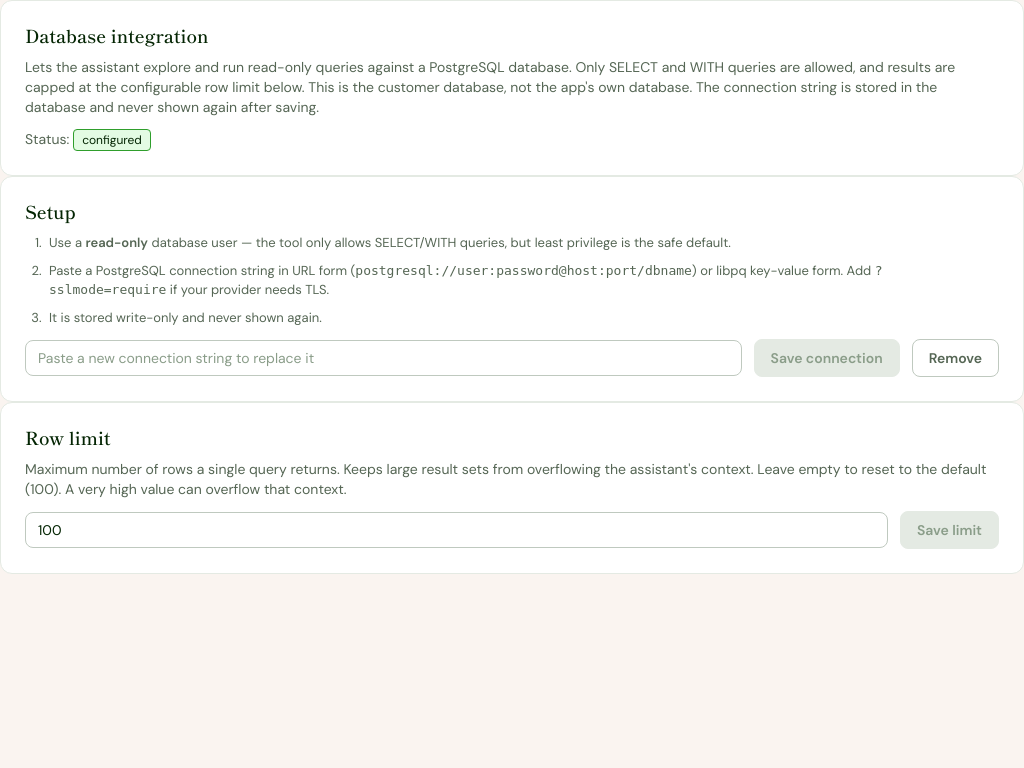
Scenario: AdminDatabase › surfaces a row-limit error from the server
This screenshot has width=1024, height=768.
Expected: the text "configured" is shown, [73,129,151,151]
Type "500" into the number field at (456, 530), box [25,512,888,548]
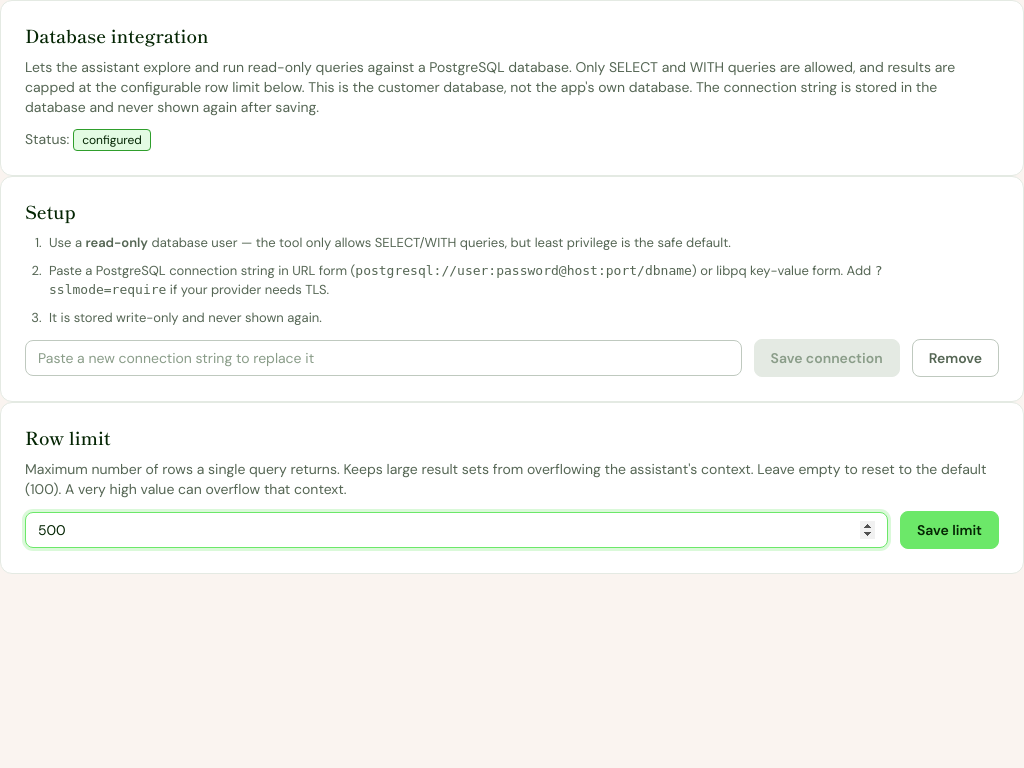
Click the button "Save limit" at (949, 530), box [900,511,999,549]
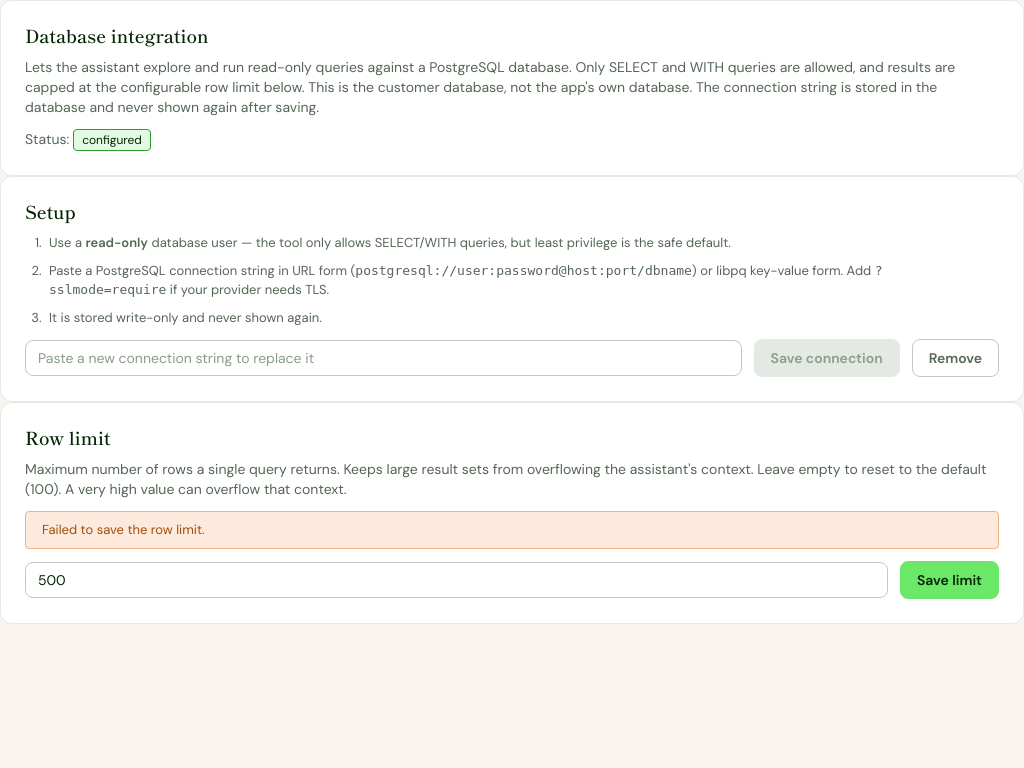
Now the text "Failed to save the row limit." is shown, box [25,511,999,549]
